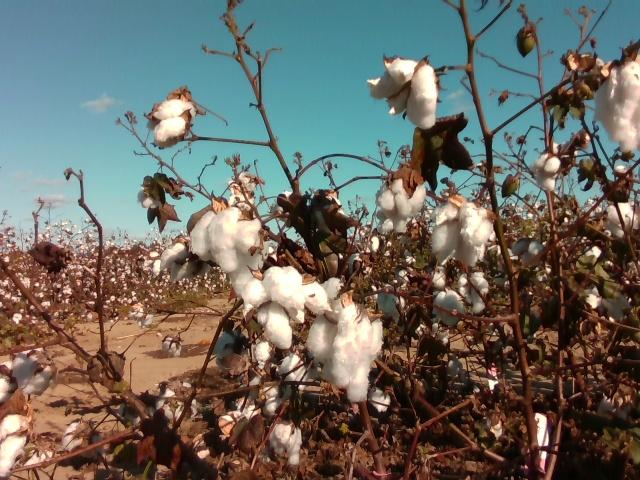cotton_ready: (307, 278, 384, 403), (243, 266, 333, 351), (190, 207, 269, 296), (366, 59, 437, 131), (596, 57, 640, 155), (428, 200, 490, 269), (378, 178, 427, 238), (0, 412, 33, 480), (148, 98, 197, 142), (11, 351, 55, 396), (155, 379, 200, 423), (62, 419, 106, 462), (269, 419, 303, 468), (455, 271, 491, 315), (605, 201, 640, 239)
